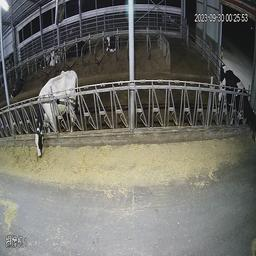cow: (31, 65, 85, 165), (218, 54, 255, 147), (6, 72, 24, 104), (66, 34, 87, 59), (103, 30, 118, 59), (45, 43, 57, 66)
